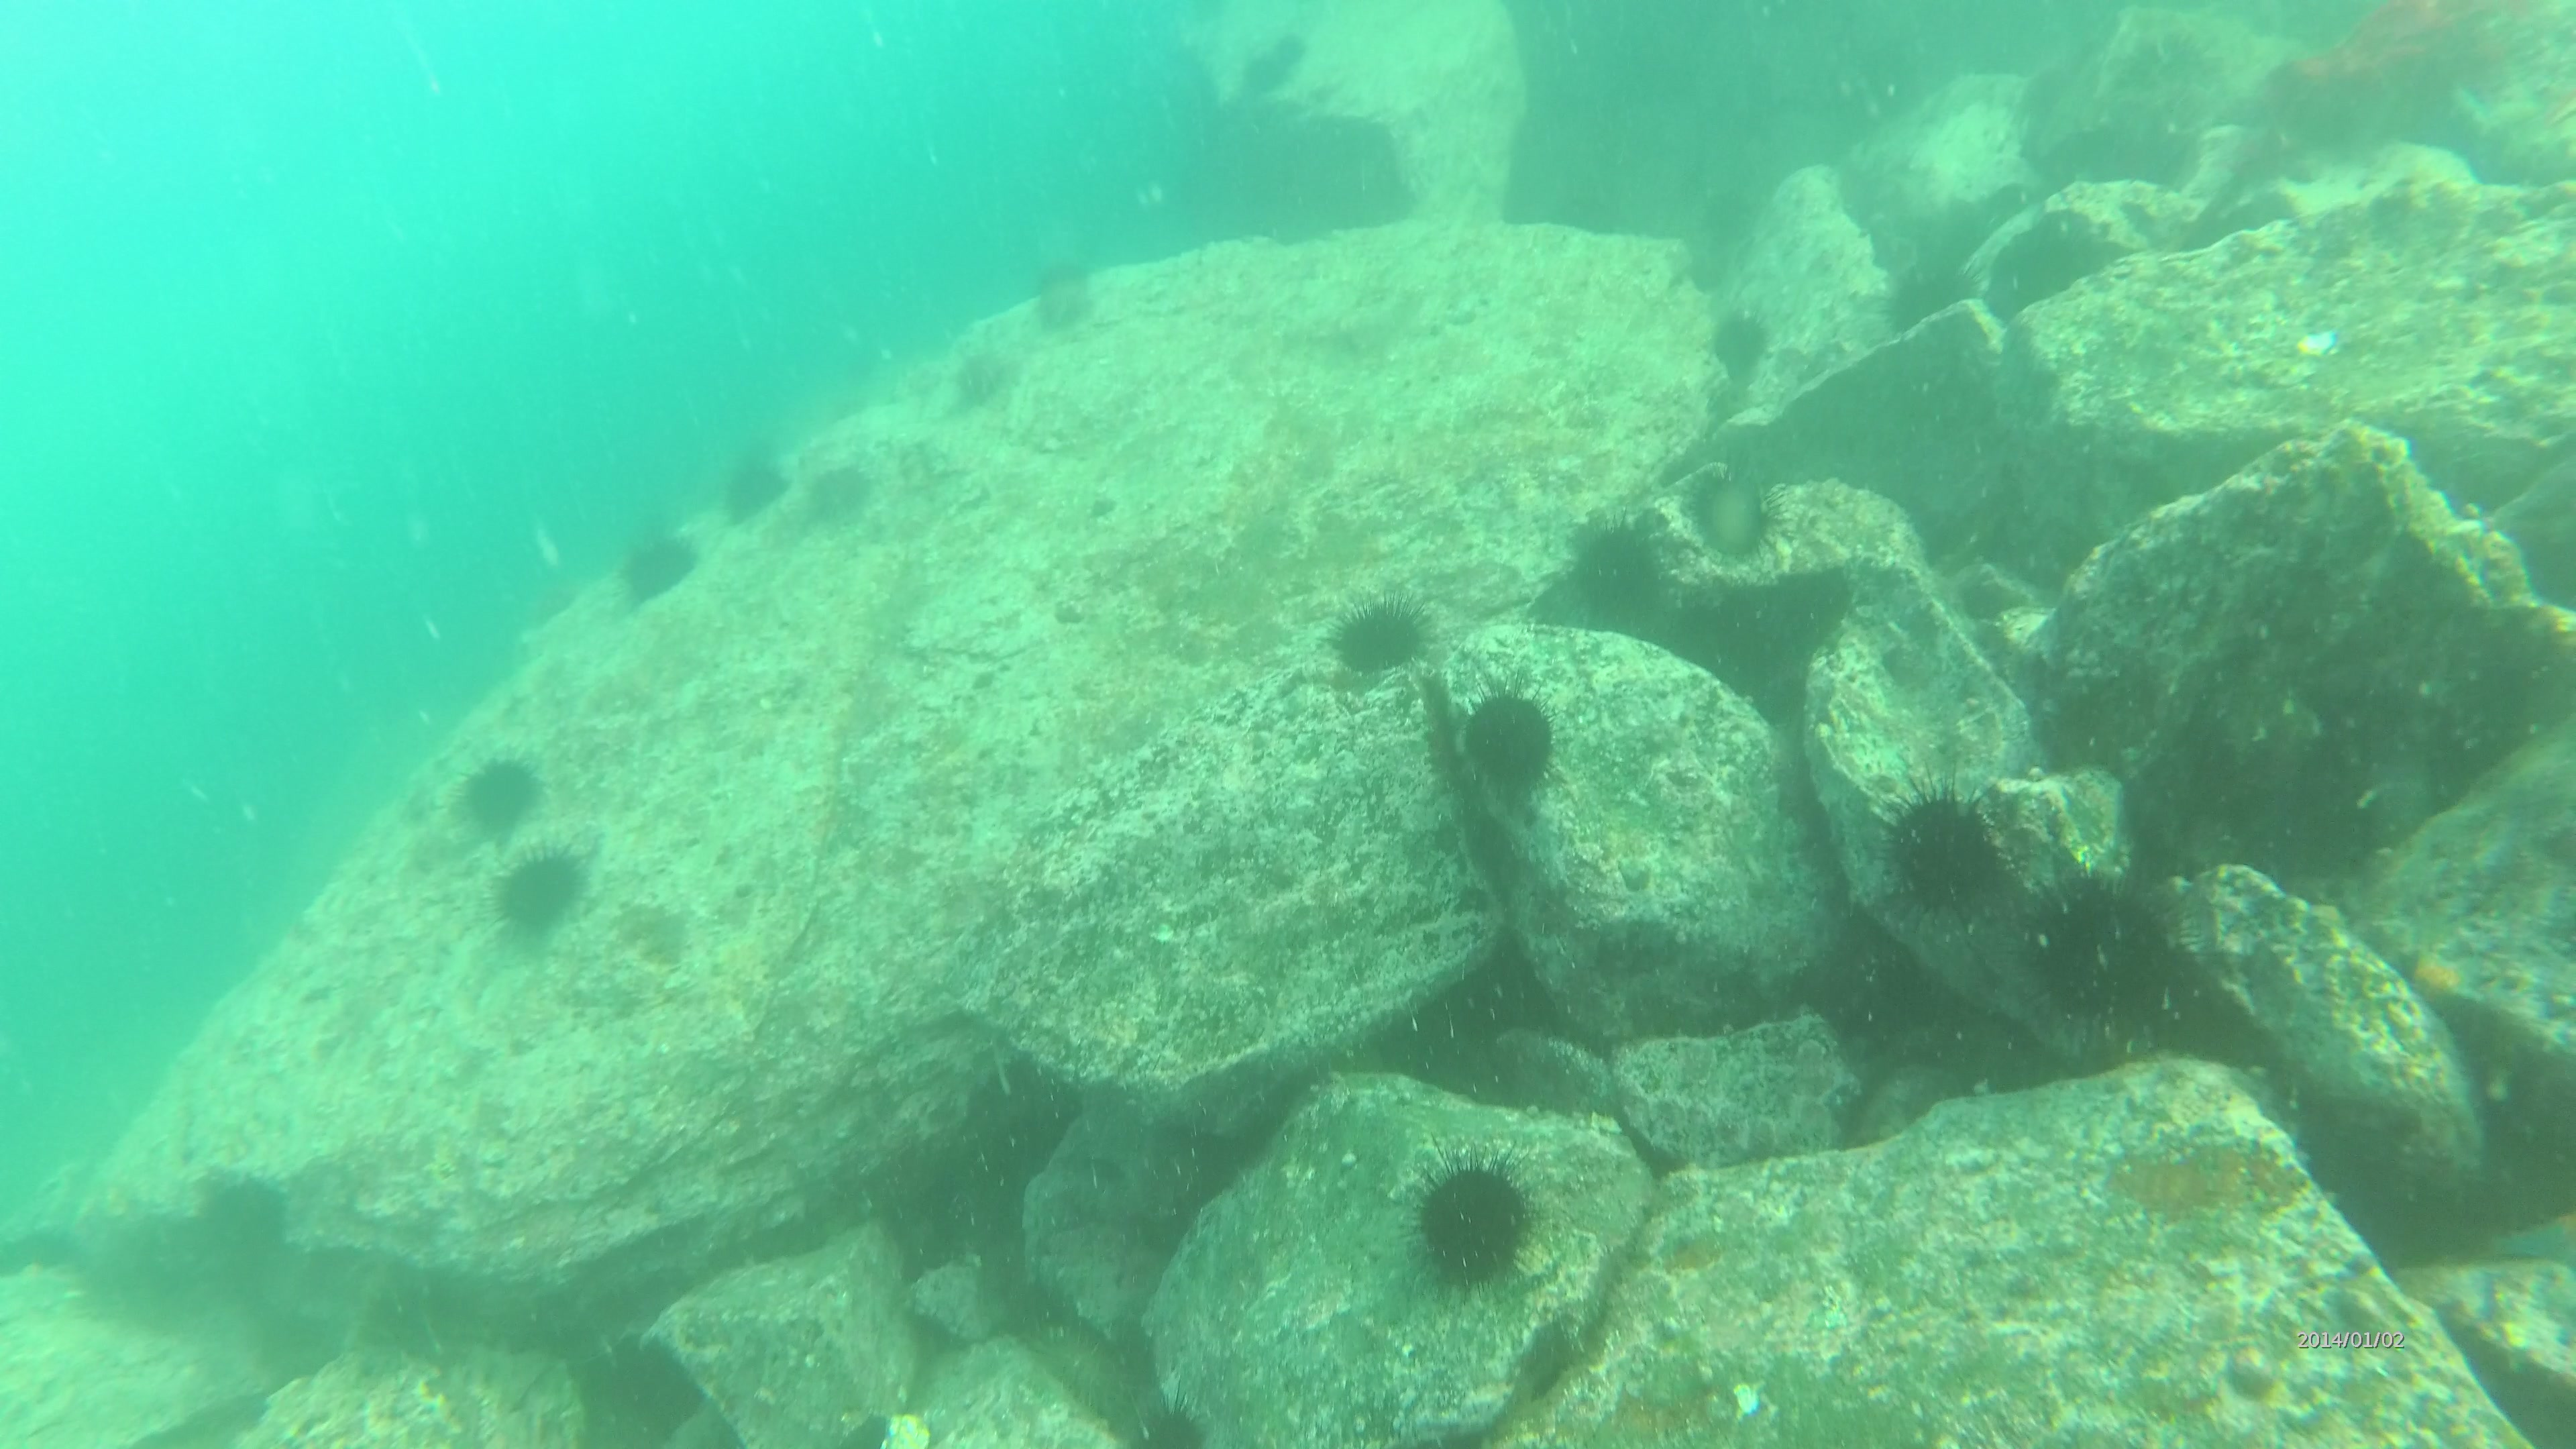echinus: (2031, 883, 2167, 1047), (1902, 780, 2010, 932), (1449, 692, 1575, 814), (1407, 1169, 1532, 1276), (1690, 464, 1790, 573), (1575, 511, 1667, 625), (474, 849, 593, 925), (1325, 600, 1431, 667), (1882, 257, 1994, 318), (793, 449, 865, 540), (460, 757, 536, 828), (612, 525, 690, 594), (1704, 311, 1778, 372), (724, 460, 786, 531)
starfish: (2401, 936, 2496, 1007), (2505, 1191, 2576, 1281)
